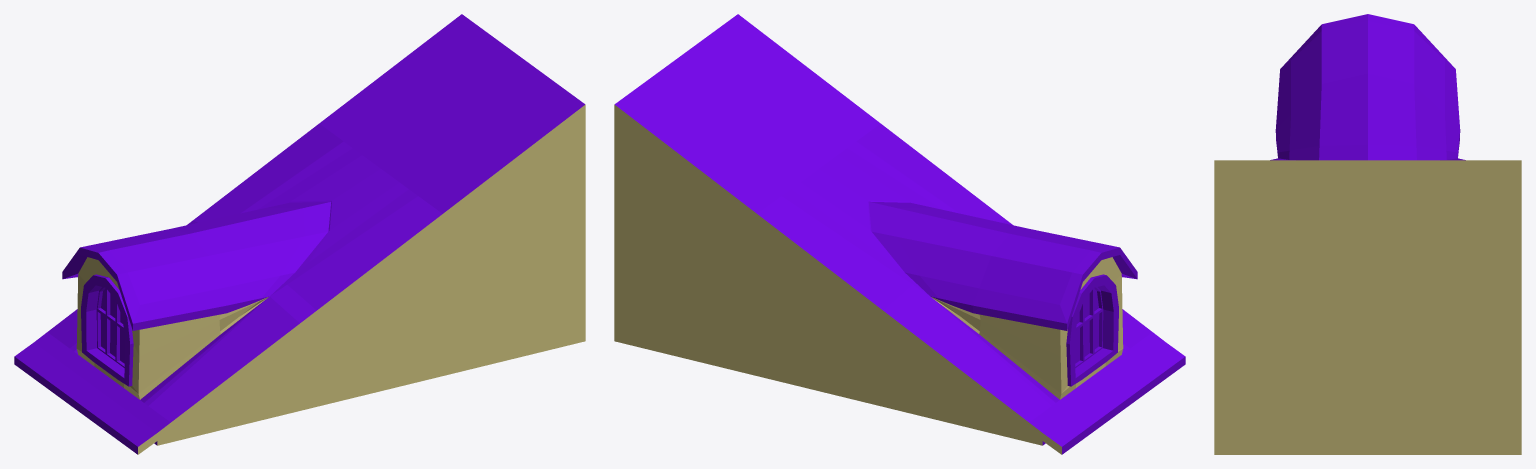
Rendered from Top.fbx.
3 renders of one model, left to right at view 1: azimuth 30°, elevation 25°; view 2: azimuth 150°, elevation 25°; view 3: azimuth 270°, elevation 25°, orthographic. The views are drawn at different scales.
Parts seen in each view (by area): view 1: TallHouse.027; view 2: TallHouse.027; view 3: TallHouse.027.
Part boxes in pixels (x1,y1,x2,y2): TallHouse.027: [14, 14, 585, 454]; TallHouse.027: [614, 14, 1185, 454]; TallHouse.027: [1214, 14, 1521, 454].
Size of the model in its own units: 8.36 by 4.31 by 4.
